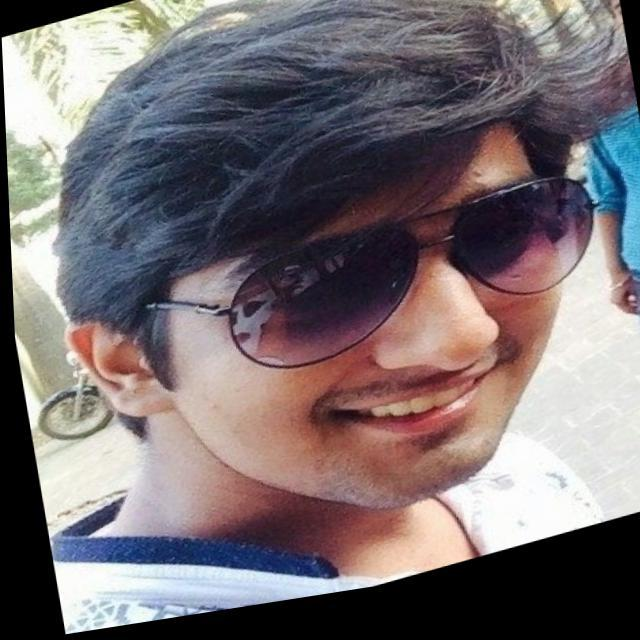Nonhelmet: (50, 0, 635, 512)
